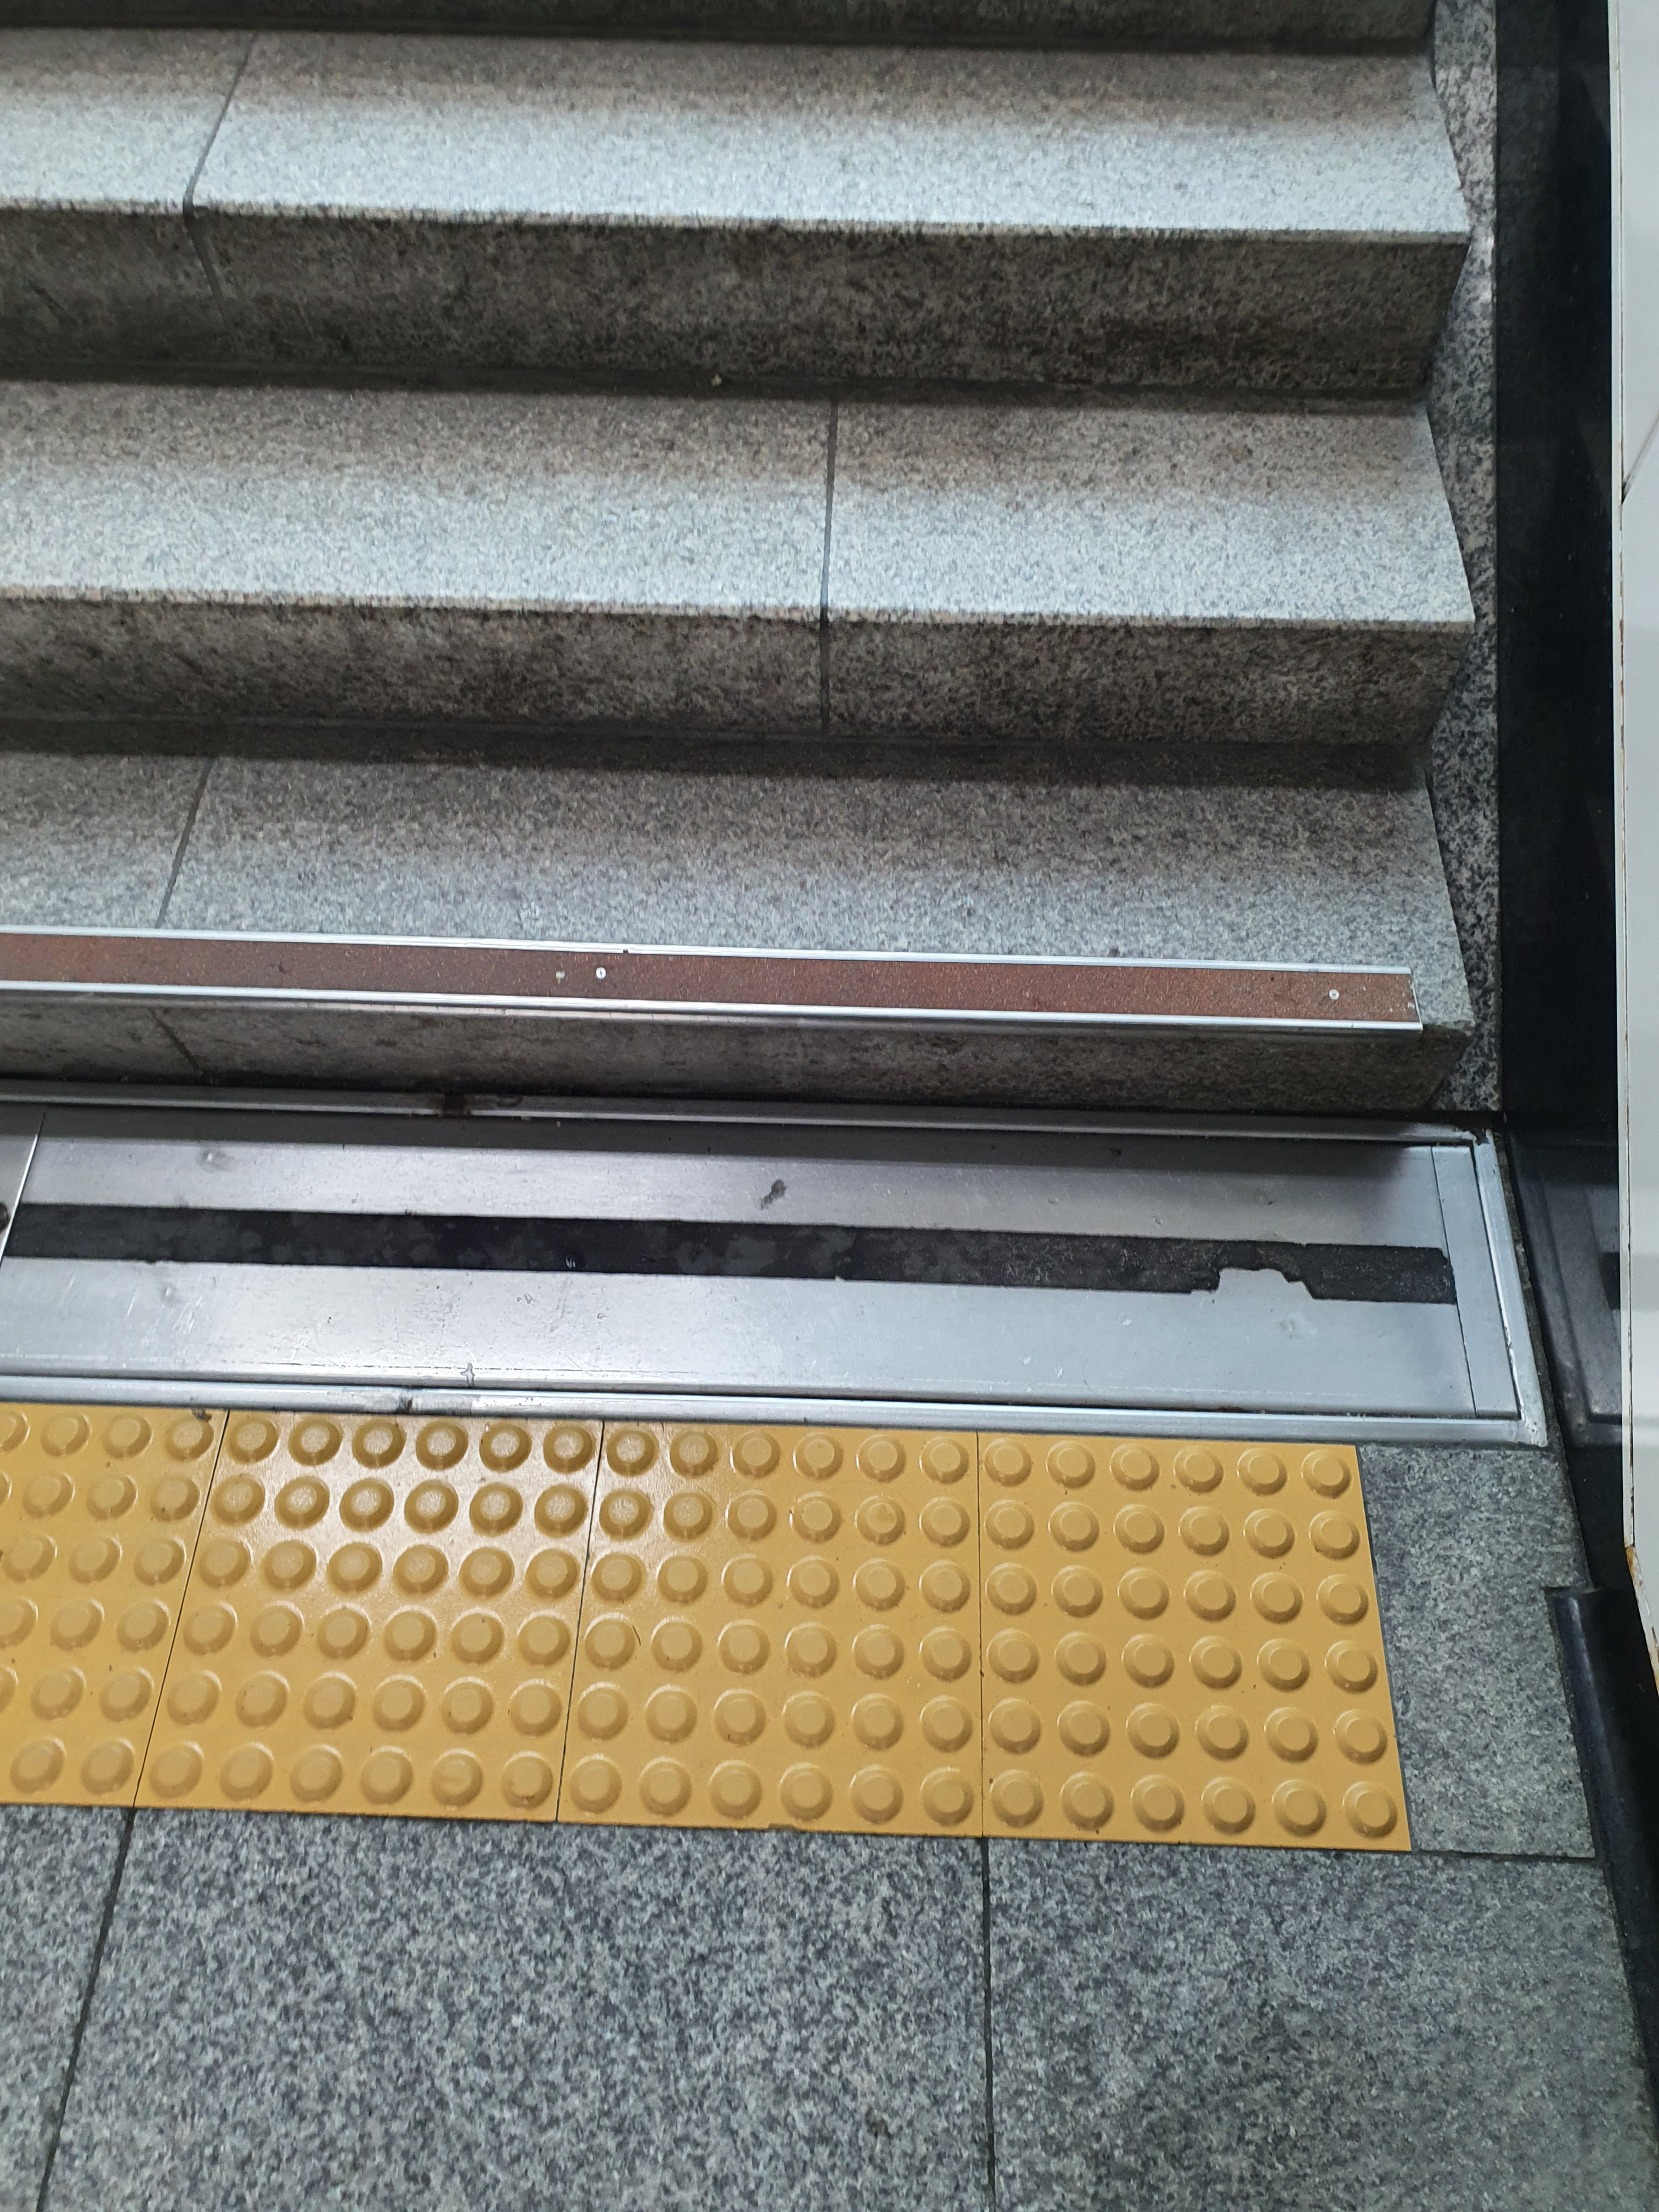warningBlock: (992, 1402, 1378, 1869), (209, 1392, 547, 1817), (580, 1435, 960, 1797), (17, 1416, 192, 1796)
